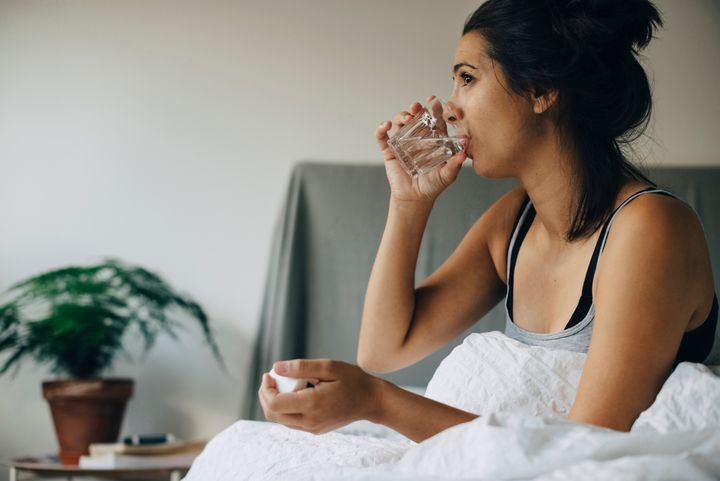drinking: (359, 1, 682, 275)
